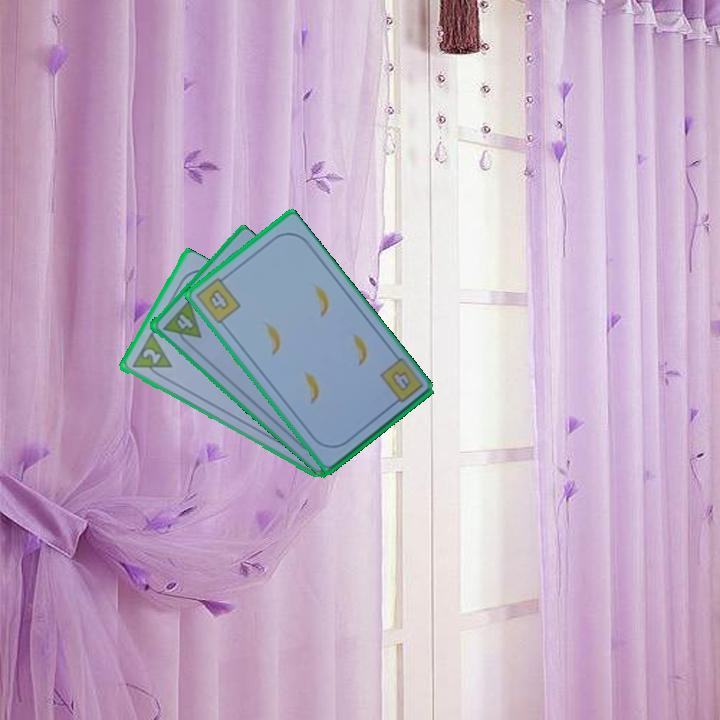2p: (128, 331, 174, 382)
4b: (192, 271, 243, 327), (387, 367, 414, 394)
4p: (159, 297, 204, 350)
